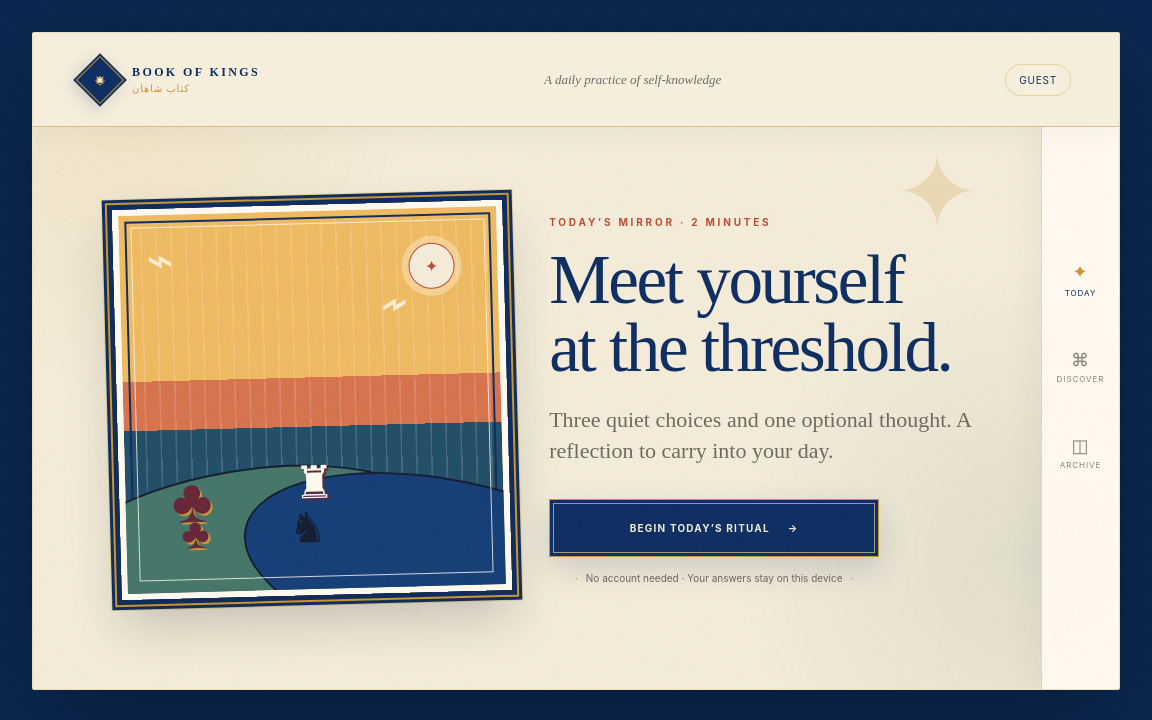
Test: Mobile app › closes the premium offer with Escape
The image size is (1152, 720).
Click the button with aria-label "Open premium".
click(1038, 80)  # box [1005,64,1071,96]
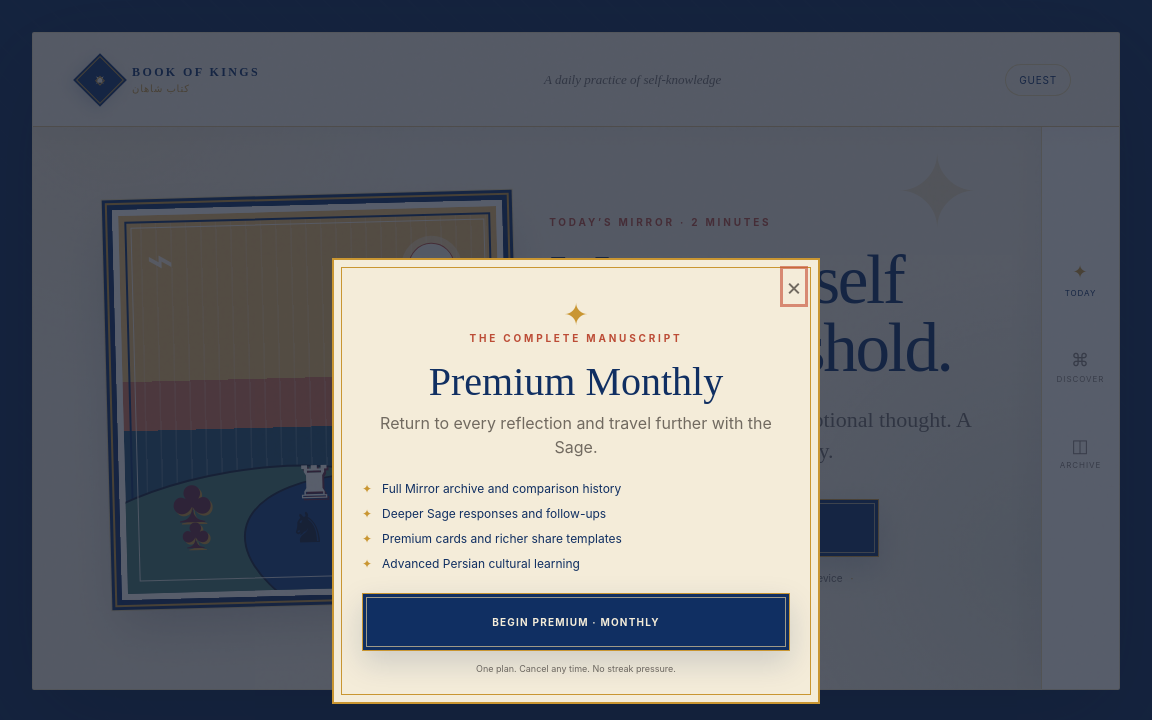
Result: the dialog "Premium Monthly" is shown at [332,258,820,704]
Press Escape
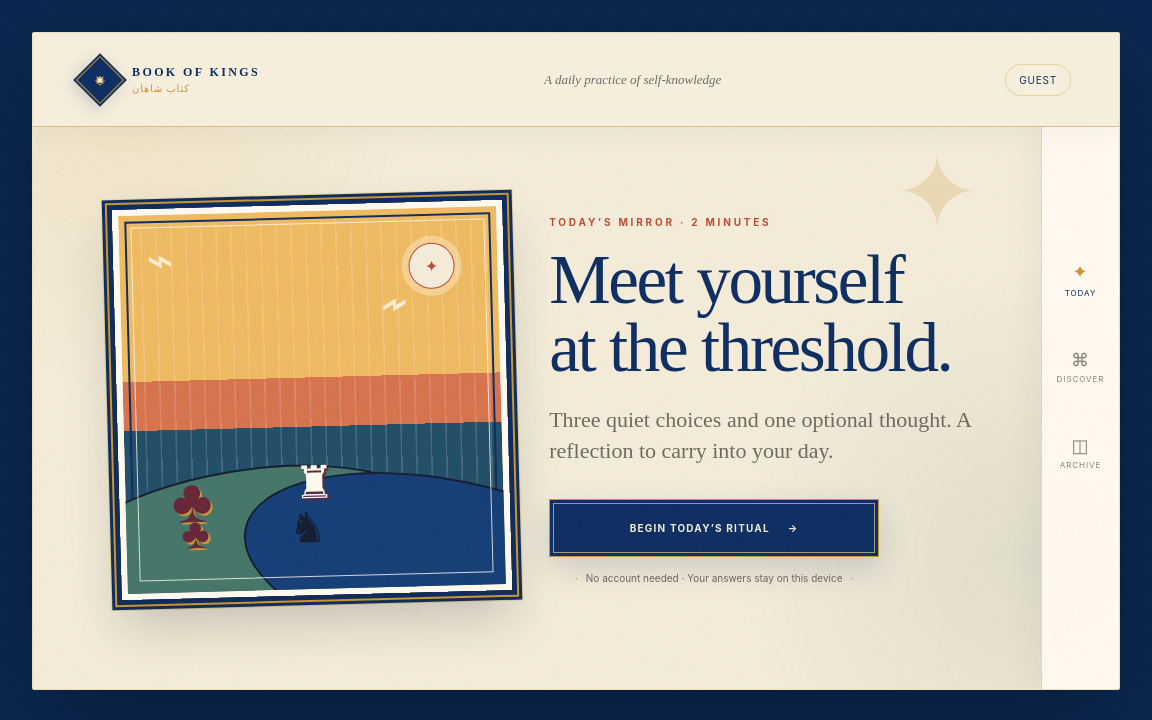
Result: the heading "Premium Monthly" is gone
